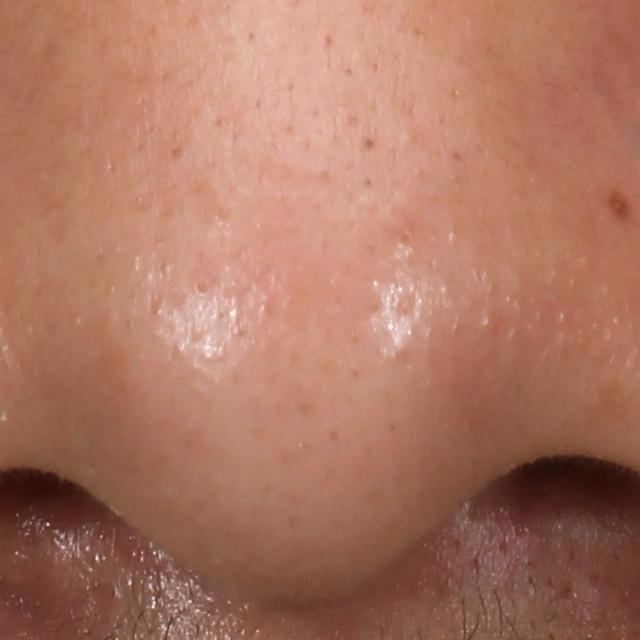comedo: (191, 277, 214, 301), (391, 228, 413, 250)
nevus: (598, 179, 632, 221)
